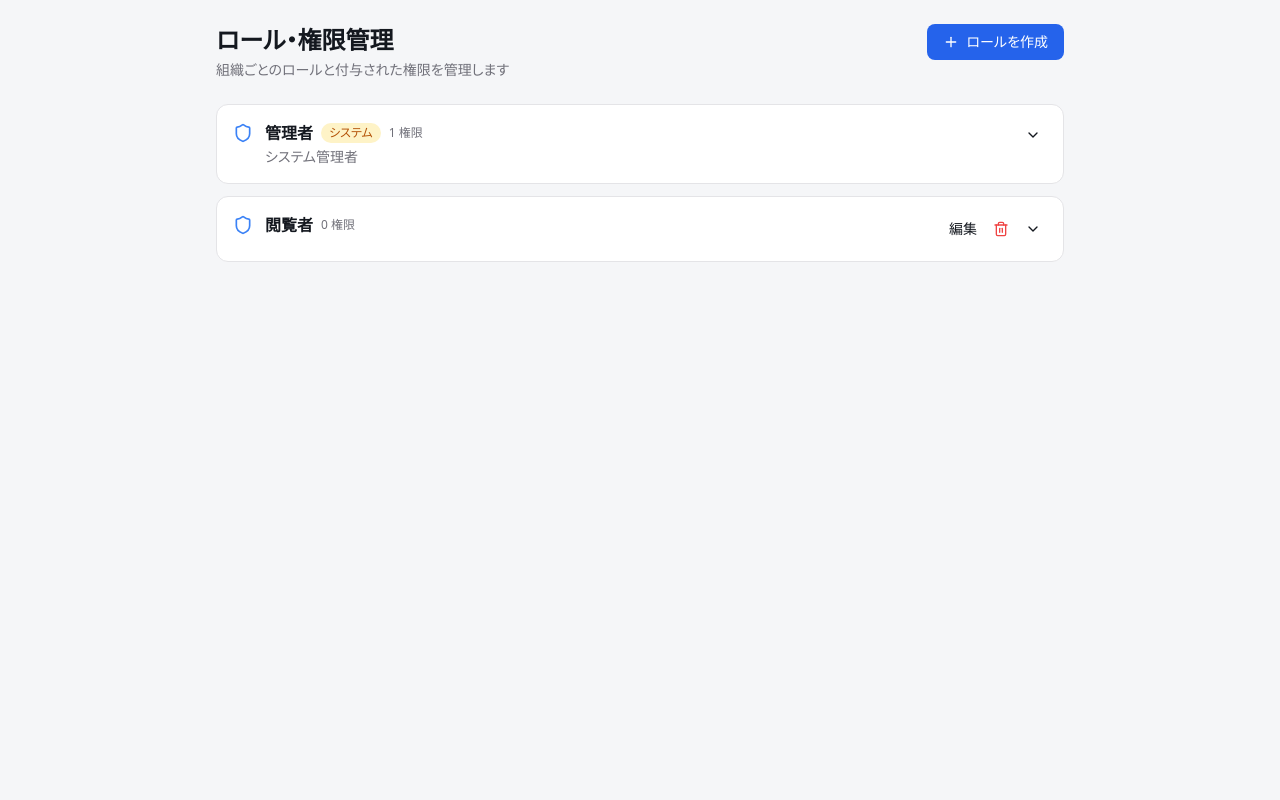
Scenario: RBACPage › ロールを作成ダイアログが開く
Click the button "ロールを作成" at (995, 42), box [926,24,1064,60]
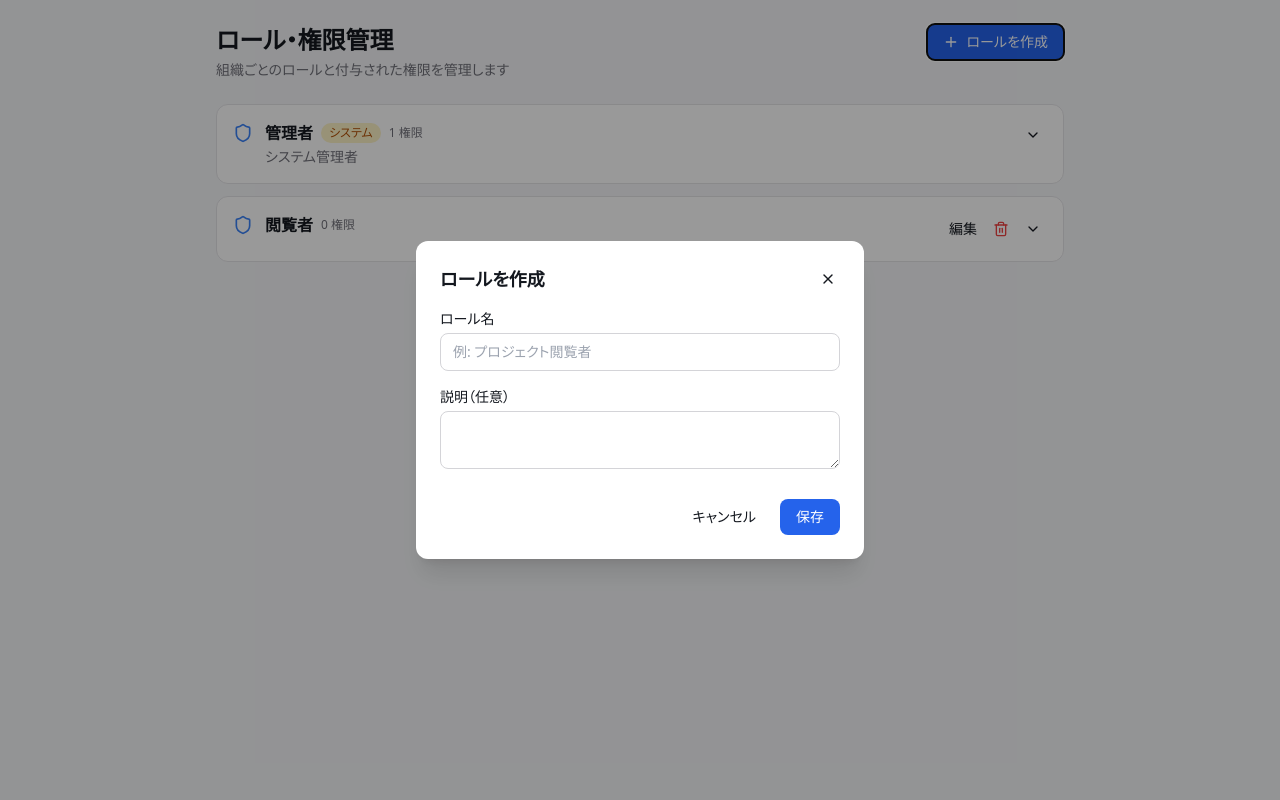
Result: the heading "ロールを作成" is shown at [440,265,545,293]
